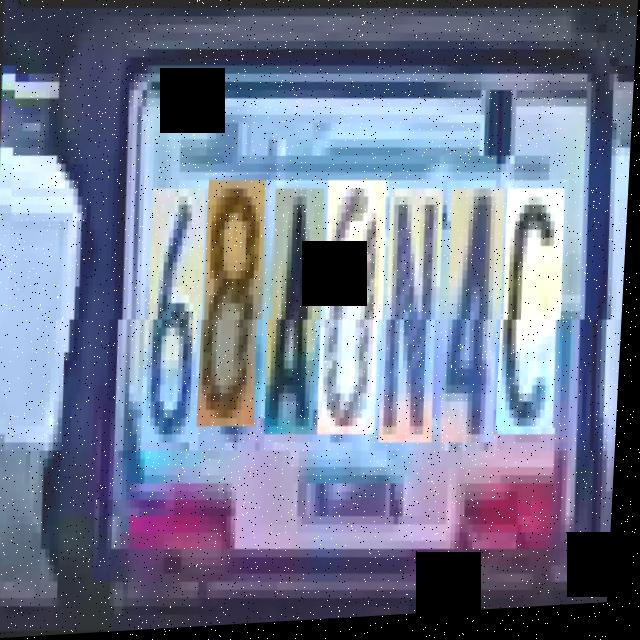0: (320, 177, 393, 437)
4: (443, 186, 511, 445)
6: (144, 186, 212, 445)
8: (202, 177, 274, 430)
A: (268, 187, 331, 437)
C: (501, 186, 573, 438)
N: (381, 186, 450, 445)
